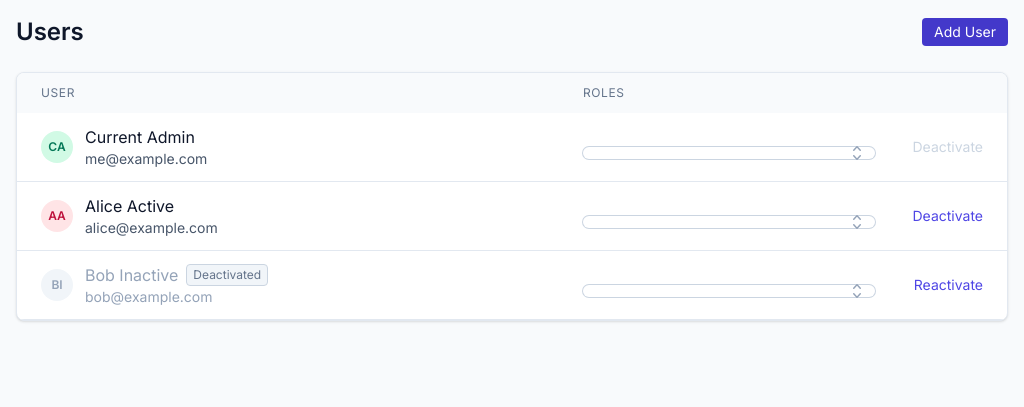
Test: UserSettings › surfaces a rejected reactivation
What coordinates should you click on to do the following:
click the button with test id "reactivate-user"
I would click on:
 (948, 285)
Its box is [914,275,983,295].
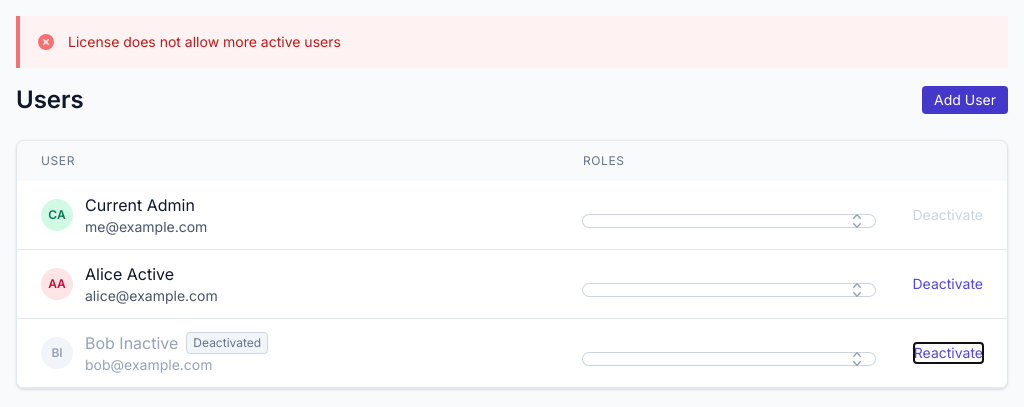
Check: the text "License does not allow more active users" is shown, box [68,32,341,52]
